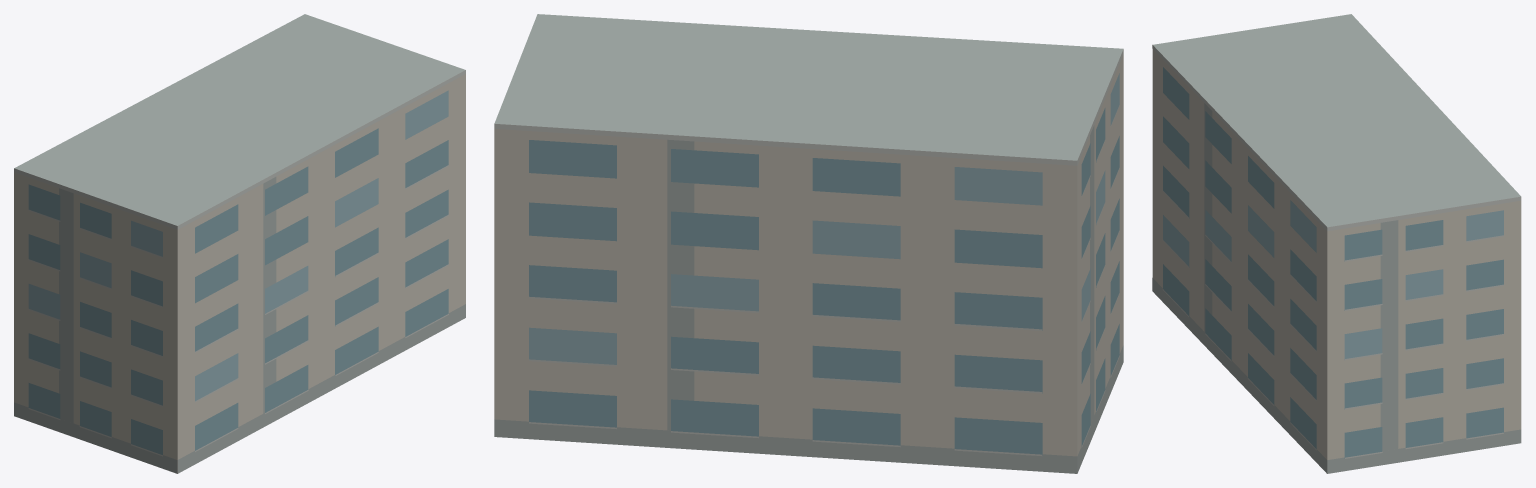
The model's file is residential-f0db59db-b57f-4b76-949e-6f1ae4f4a95f.glb.
3 views of the same model, side by side, from view 1: azimuth 30°, elevation 25°; view 2: azimuth 150°, elevation 25°; view 3: azimuth 270°, elevation 25° (orthographic). The views are drawn at different scales.
Visible parts, largest first — view 1: residential-f0db59db-b57f-4b76-949e-6f1ae4f4a95f.tmp; view 2: residential-f0db59db-b57f-4b76-949e-6f1ae4f4a95f.tmp; view 3: residential-f0db59db-b57f-4b76-949e-6f1ae4f4a95f.tmp.
Part boxes in pixels (x1,y1,x2,y2): residential-f0db59db-b57f-4b76-949e-6f1ae4f4a95f.tmp: [14, 14, 465, 473]; residential-f0db59db-b57f-4b76-949e-6f1ae4f4a95f.tmp: [494, 14, 1123, 473]; residential-f0db59db-b57f-4b76-949e-6f1ae4f4a95f.tmp: [1152, 14, 1521, 473].
Size of the model in its own units: 28.31 by 15.25 by 20.68.
